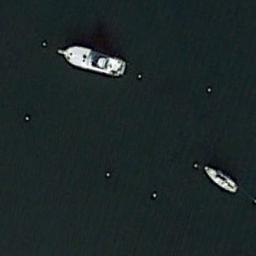boat: (56, 45, 128, 78), (203, 164, 238, 193)
